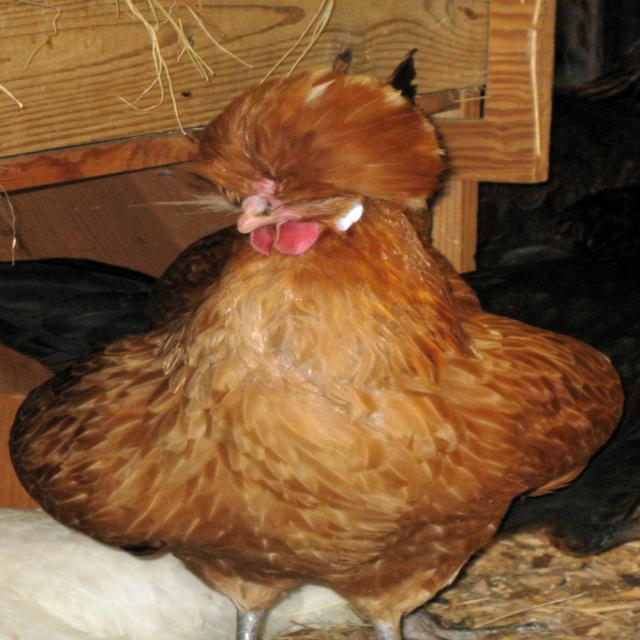Chicken: (31, 69, 640, 640)
